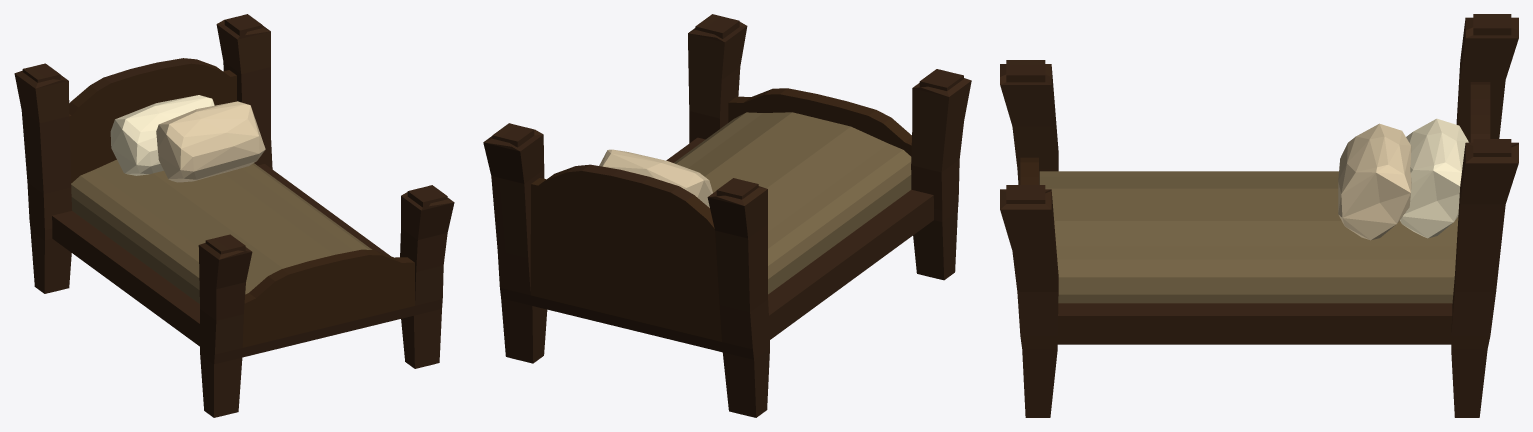
File: cama.fbx
3 renders of one model, left to right at view 1: azimuth 30°, elevation 25°; view 2: azimuth 150°, elevation 25°; view 3: azimuth 270°, elevation 25°, orthographic. The views are drawn at different scales.
Visible parts, largest first — view 1: cama, colchao, t2, t1; view 2: cama, colchao, t2; view 3: cama, colchao, t2, t1.
Part boxes in pixels (x1=…): cama: x1=14, y1=14, x2=454, y2=417; colchao: x1=71, y1=159, x2=372, y2=303; t2: x1=156, y1=101, x2=265, y2=182; t1: x1=110, y1=95, x2=214, y2=175; cama: x1=483, y1=14, x2=971, y2=417; colchao: x1=674, y1=112, x2=911, y2=294; t2: x1=599, y1=149, x2=712, y2=207; cama: x1=1000, y1=14, x2=1518, y2=417; colchao: x1=1039, y1=171, x2=1458, y2=303; t2: x1=1338, y1=123, x2=1411, y2=240; t1: x1=1400, y1=118, x2=1468, y2=238.
Bounding box in the file's own units: 1345 × 1140 × 2025.
